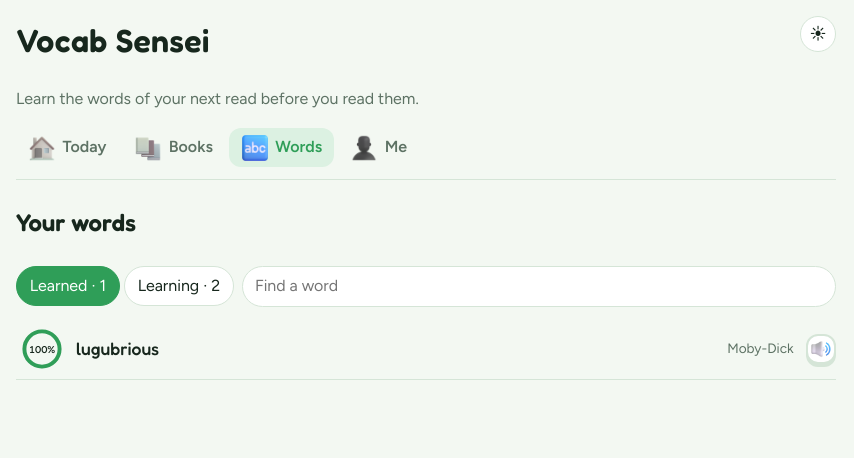
it: Me tab › filters words as you type
Click the button "Learning · 2". click: (179, 286)
box: [124,266,234,306]
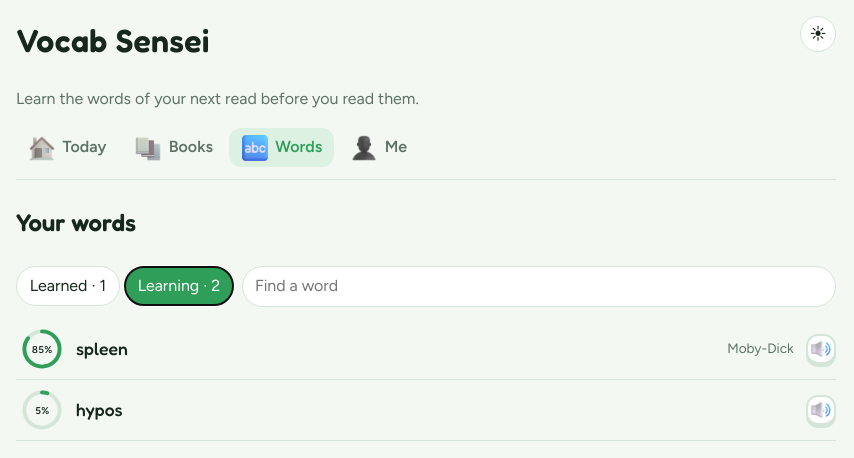
Type "SPL" into the search field labelled "Find a word". click: (539, 286)
box: [242,266,836,307]
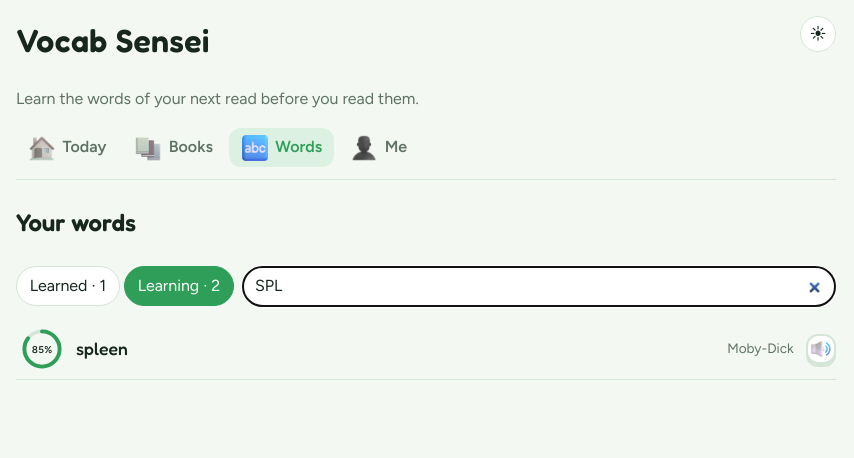
Expected: the list shows "spleen", [16,319,798,379]
Expected: the number of list items is 1, [16,319,836,380]
Type "x" into the search field. click: (539, 286)
box: [242,266,836,307]
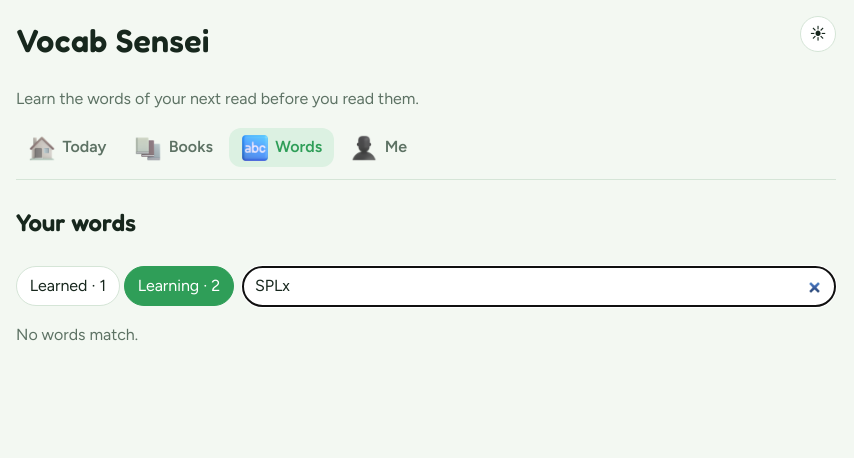
Expected: the text "No words match." is shown, [16,325,138,344]
